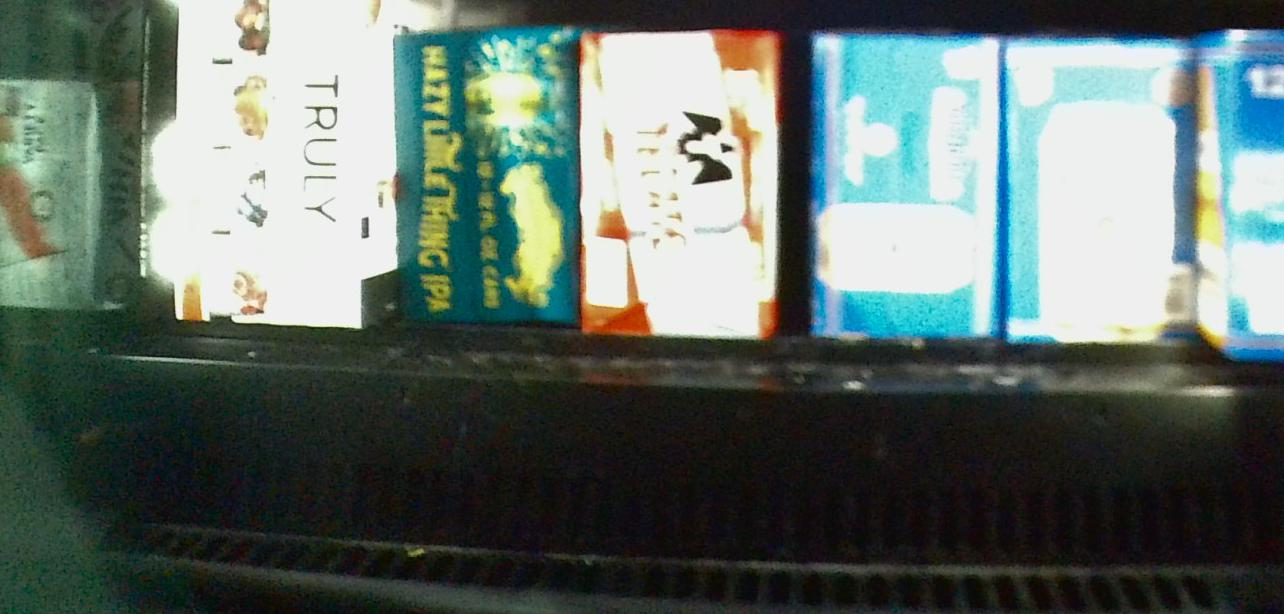bottle: (174, 1, 396, 323), (576, 28, 781, 341), (809, 29, 1003, 339), (1005, 35, 1194, 350), (394, 30, 580, 326)
